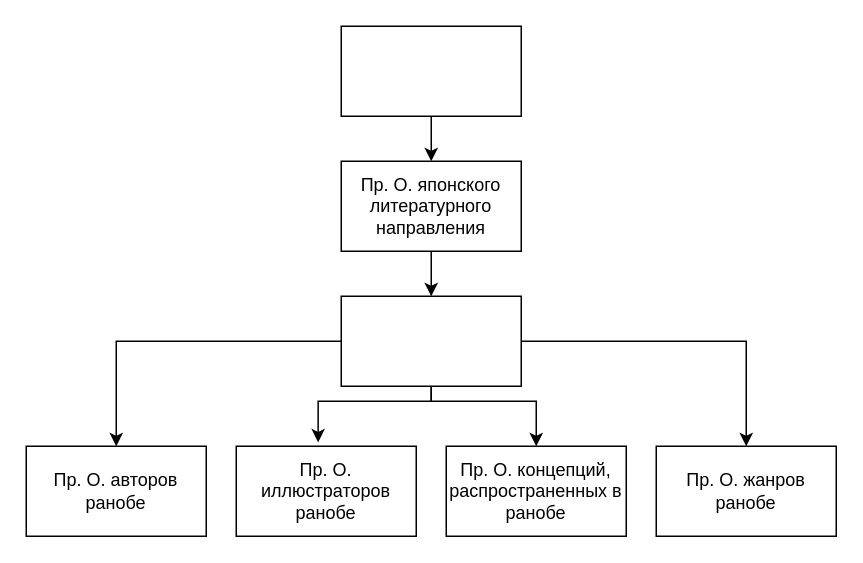
The diagram is 863 pixels wide and 563 high, and some of its shapes have lost their labels. The shapes that lost their labels are listed below. From the top down, each one's centre as x and y in pixels, then its label:
(x=430, y=70): Пр. О. библиографии
(x=430, y=340): Пр. О. ранобе
